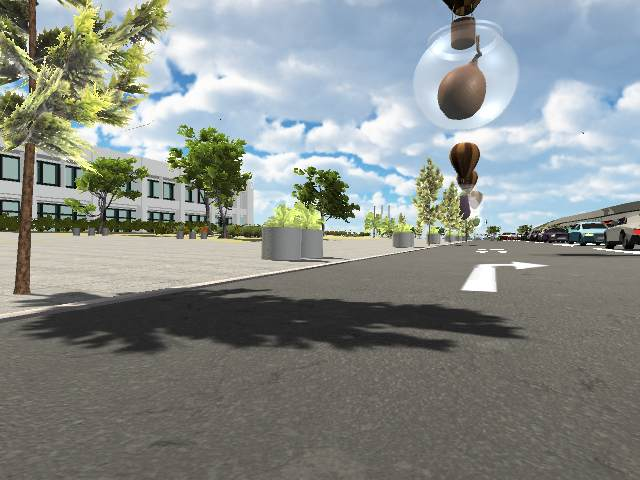ground_right: (473, 259, 551, 271)
